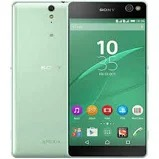sony: (66, 1, 146, 159)
